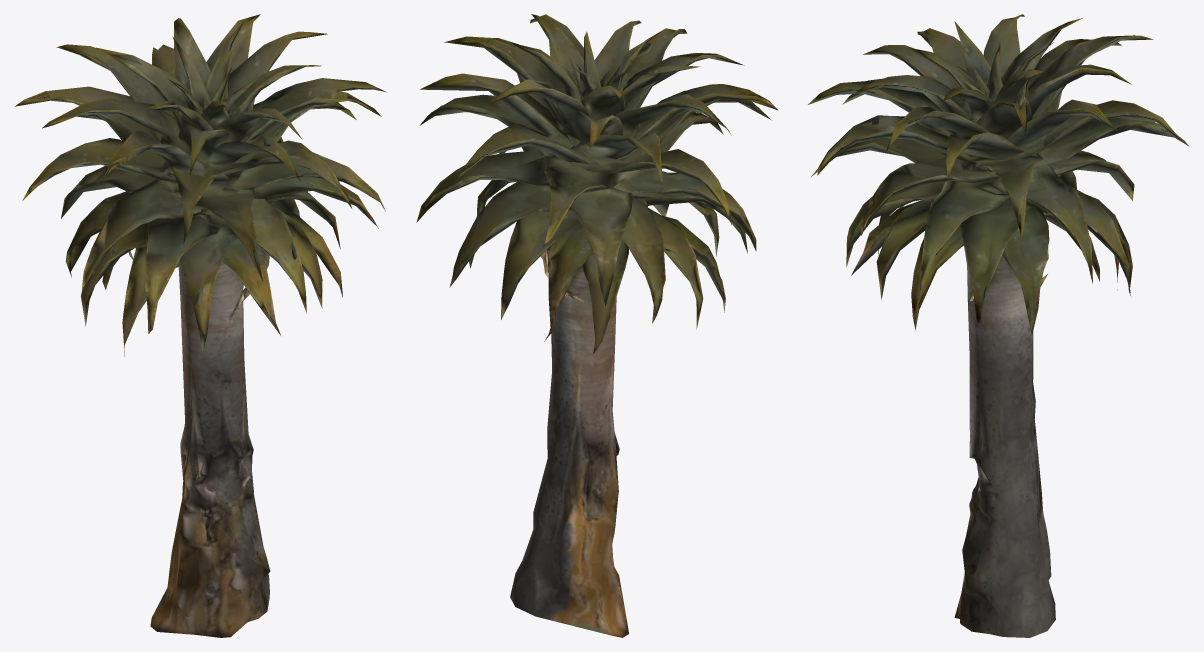
Rendered from quiver_tree_02.glb.
The picture shows the model from 3 angles, left to right: view 1: azimuth 30°, elevation 25°; view 2: azimuth 150°, elevation 25°; view 3: azimuth 270°, elevation 25°; orthographic projection.
Parts seen in each view (by area): view 1: quiver_tree_02; view 2: quiver_tree_02; view 3: quiver_tree_02.
Part boxes in pixels (x1=…): quiver_tree_02: x1=15, y1=14, x2=386, y2=637; quiver_tree_02: x1=416, y1=14, x2=778, y2=637; quiver_tree_02: x1=808, y1=14, x2=1188, y2=637.
Size of the model in its own units: 0.8628 by 1.46 by 0.8753.
1 material, 1 textured.
